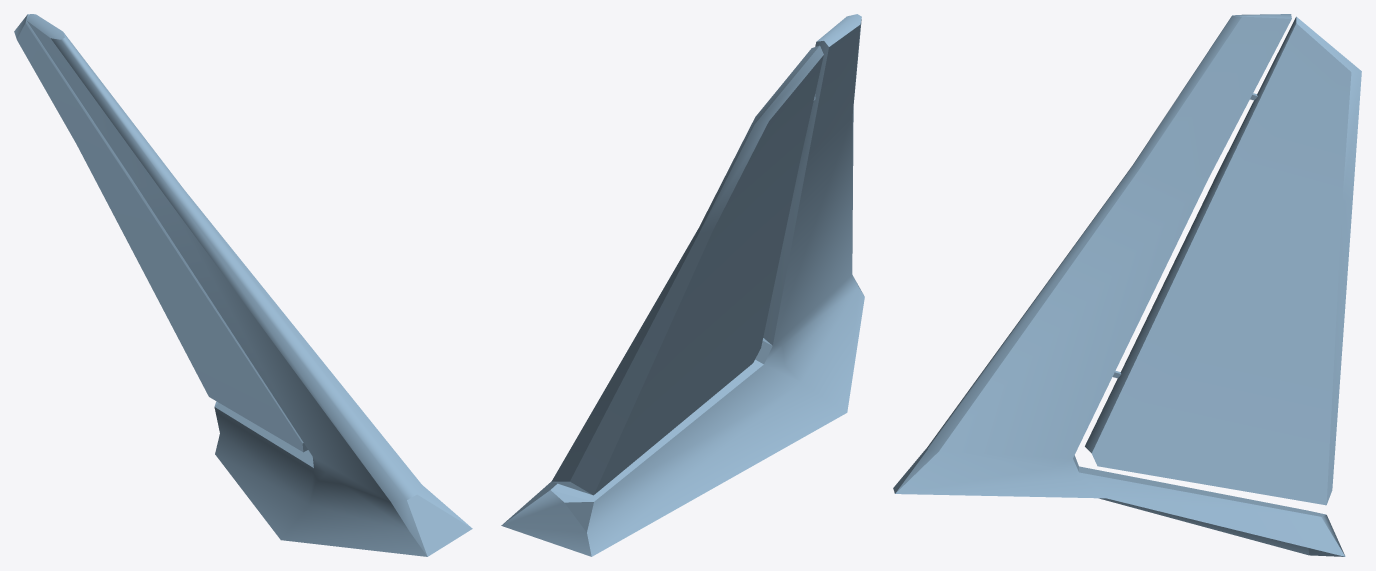
File: keel dwn R.FBX
3 views of the same model, side by side, from view 1: azimuth 30°, elevation 25°; view 2: azimuth 150°, elevation 25°; view 3: azimuth 270°, elevation 25° (orthographic). The views are drawn at different scales.
Visible parts, largest first — view 1: Group31; view 2: Group31; view 3: Group31.
Boxes of the visible parts, box(x1,y1,x2,y2) form: Group31: box(14, 14, 472, 556); Group31: box(501, 14, 864, 556); Group31: box(893, 14, 1361, 556).
Bounding box in the file's own units: 0.0441 × 0.0749 × 0.0801.
